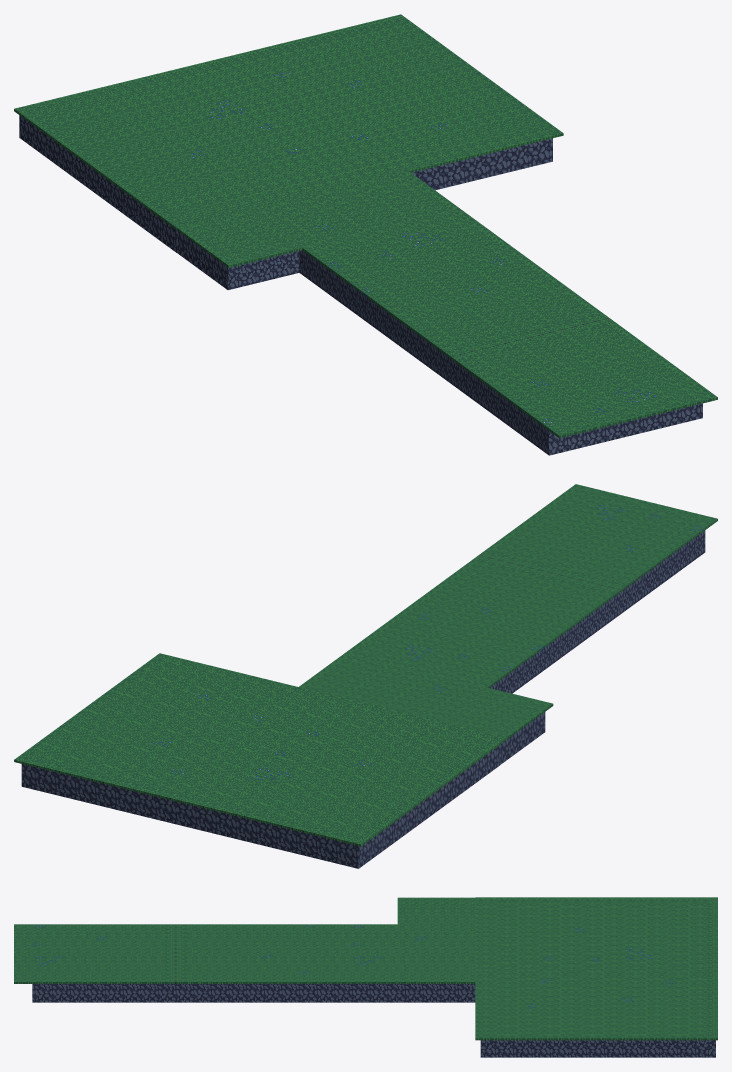
The model's file is ChaoBemGrande.fbx.
3 renders of one model, top to bottom at view 1: azimuth 30°, elevation 25°; view 2: azimuth 150°, elevation 25°; view 3: azimuth 270°, elevation 25°, orthographic. The views are drawn at different scales.
Parts seen in each view (by area): view 1: ChaoAbsurdamenteGrande; view 2: ChaoAbsurdamenteGrande; view 3: ChaoAbsurdamenteGrande.
Part boxes in pixels (<box>): ChaoAbsurdamenteGrande: <box>14,14,717,455</box>; ChaoAbsurdamenteGrande: <box>14,484,717,868</box>; ChaoAbsurdamenteGrande: <box>14,897,717,1057</box>.
Size of the model in its own units: 12336 by 26040 by 887.
